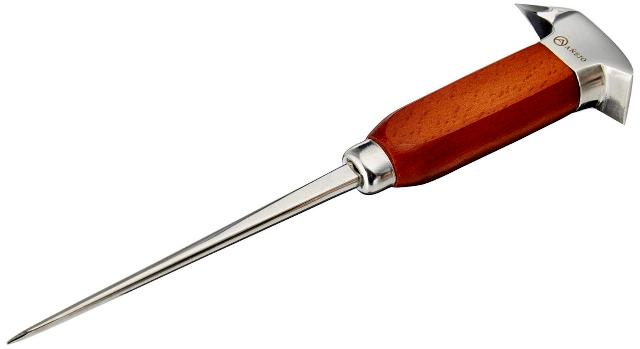ice pick: (6, 2, 634, 346)
